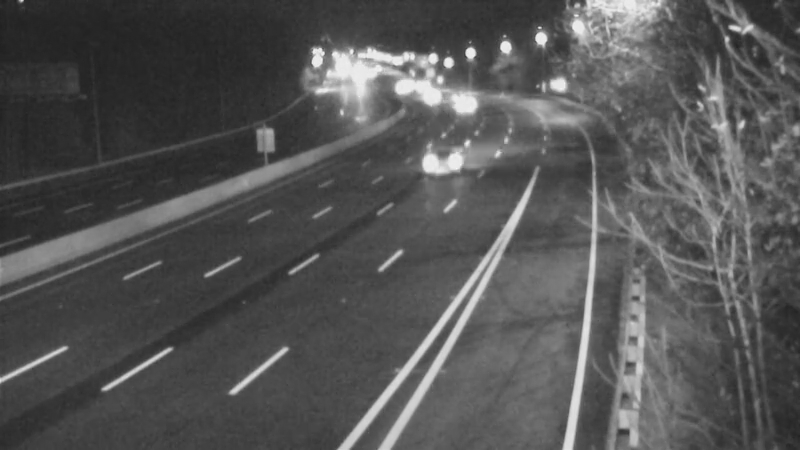vehicle: (400, 118, 480, 198), (407, 71, 457, 121), (433, 73, 483, 123), (441, 83, 491, 133)
